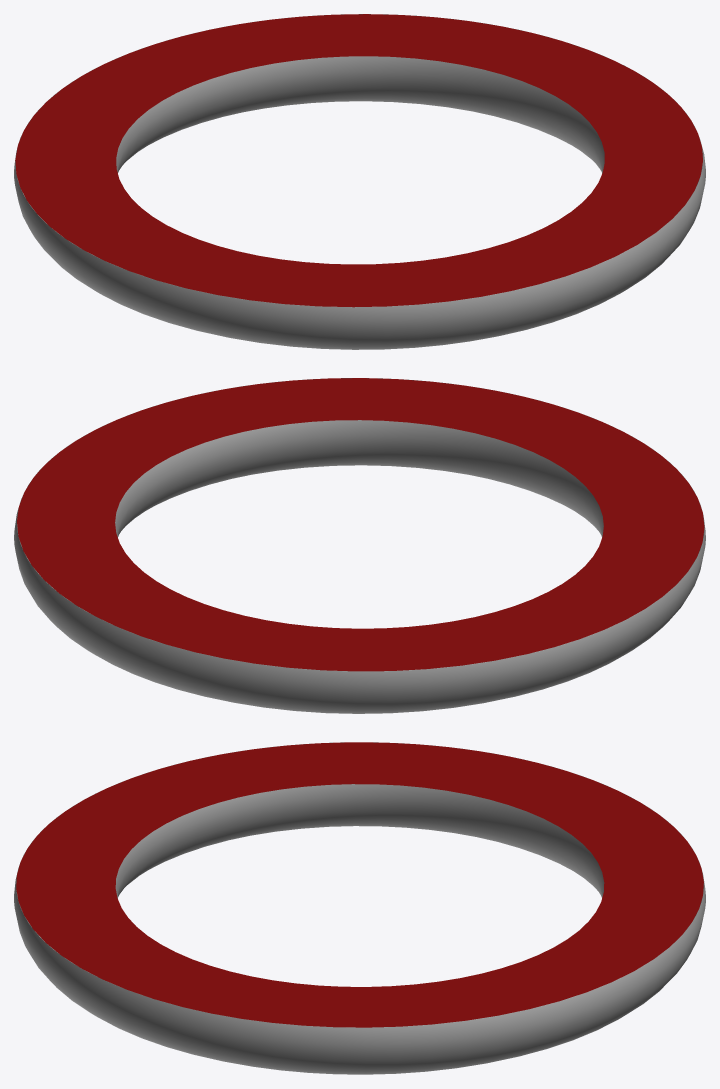
Rendered from Ring.glb.
3 renders of one model, top to bottom at view 1: azimuth 30°, elevation 25°; view 2: azimuth 150°, elevation 25°; view 3: azimuth 270°, elevation 25°, orthographic.
Parts seen in each view (by area): view 1: Object_2_New material 004_0, Object_1_Silver_0; view 2: Object_2_New material 004_0, Object_1_Silver_0; view 3: Object_2_New material 004_0, Object_1_Silver_0.
Part boxes in pixels (x1,y1,x2,y2): Object_2_New material 004_0: (15,14,702,307); Object_1_Silver_0: (14,14,705,349); Object_2_New material 004_0: (17,378,704,671); Object_1_Silver_0: (14,378,705,713); Object_2_New material 004_0: (16,742,703,1027); Object_1_Silver_0: (14,742,705,1074).
Bounding box in the file's own units: 15.45 × 1.55 × 15.45.
